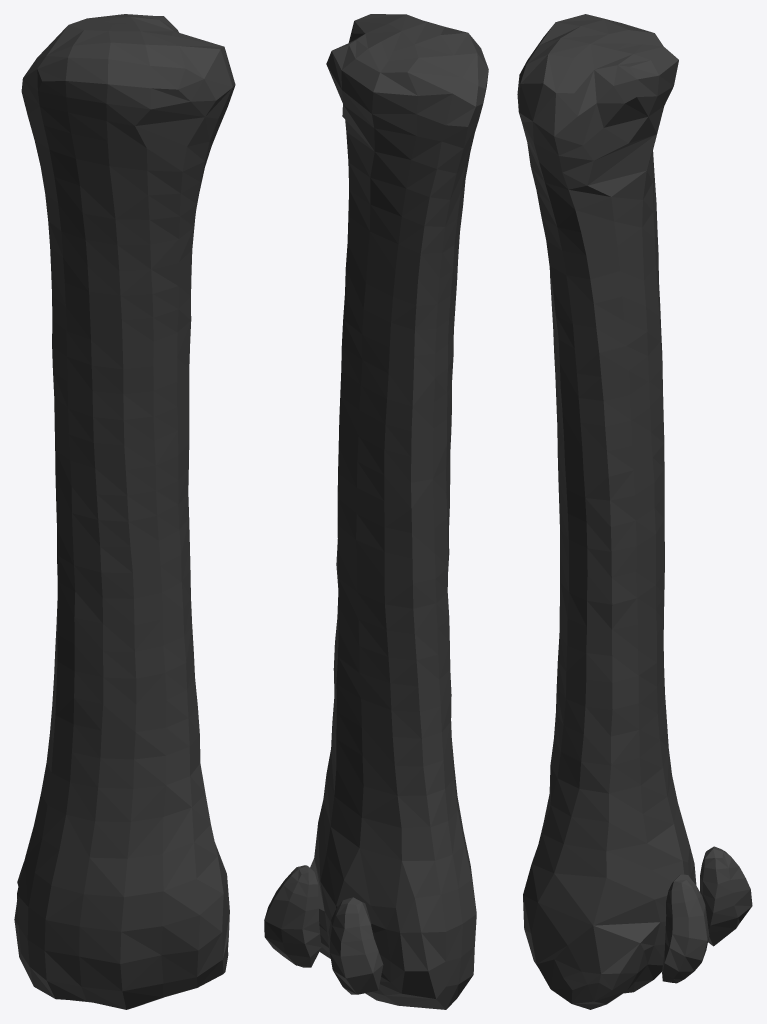
The model's file is RFL_cannon.glb.
3 views of the same model, side by side, from view 1: azimuth 30°, elevation 25°; view 2: azimuth 150°, elevation 25°; view 3: azimuth 270°, elevation 25° (orthographic). The views are drawn at different scales.
Parts seen in each view (by area): view 1: RFL_cannon; view 2: RFL_cannon; view 3: RFL_cannon.
Boxes of the visible parts, x1,y1,x2,y2 form: RFL_cannon: [14, 14, 235, 1009]; RFL_cannon: [264, 14, 488, 1009]; RFL_cannon: [517, 14, 752, 1009].
Size of the model in its own units: 12.14 by 60.48 by 13.52.
1 material, 1 textured.
